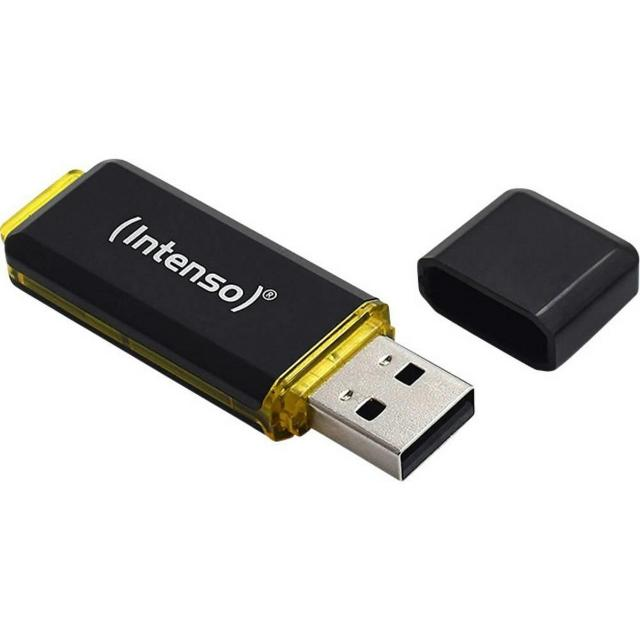USB-Flash-Drive: (0, 159, 477, 483)
